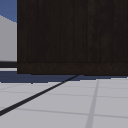obstacle: (17, 1, 128, 76)
